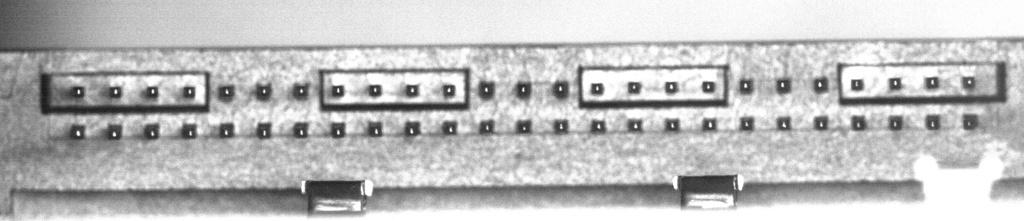pin_ok: (478, 81, 495, 99), (292, 82, 309, 99), (552, 81, 569, 98), (515, 81, 532, 98), (962, 114, 979, 130), (812, 76, 829, 92), (255, 83, 272, 99), (218, 84, 235, 100), (925, 114, 941, 130), (776, 77, 792, 93), (69, 124, 85, 140), (218, 122, 234, 138), (405, 120, 421, 136), (144, 123, 160, 139), (181, 122, 197, 138), (257, 121, 272, 138), (813, 115, 829, 130), (739, 116, 755, 131), (479, 119, 495, 134), (442, 120, 458, 135), (368, 120, 383, 136), (331, 122, 346, 138), (293, 122, 309, 137), (590, 118, 606, 133), (107, 123, 122, 139), (739, 78, 754, 93), (888, 115, 903, 130), (851, 115, 866, 130), (442, 83, 457, 98), (627, 118, 643, 132), (516, 119, 532, 133), (702, 117, 718, 131), (553, 119, 569, 133), (962, 75, 977, 89), (777, 116, 791, 130), (665, 118, 680, 131), (70, 85, 85, 98), (701, 80, 716, 93), (888, 77, 903, 90), (331, 84, 345, 97), (590, 82, 604, 95), (405, 83, 419, 96), (368, 84, 382, 97), (145, 85, 159, 98), (925, 76, 939, 89), (183, 85, 196, 99), (850, 78, 864, 91), (628, 81, 641, 94), (665, 80, 678, 93), (109, 85, 122, 98)
